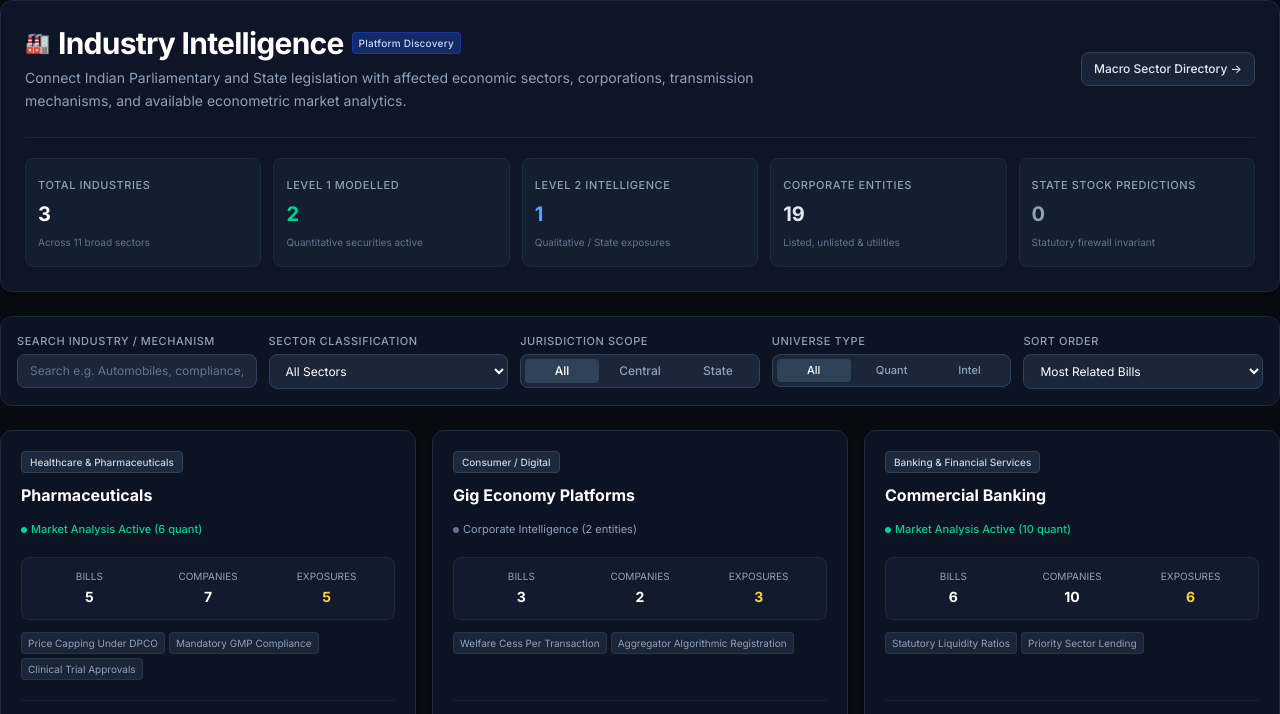
it: IndustriesContent (Industry Discovery Page) › filters industries by universe type
Expected: the link "Commercial Banking" is shown, [885,485,1046,505]
Note: Click "Intel" universe button
Click the button "Intel": (969, 371) [932,359,1006,382]
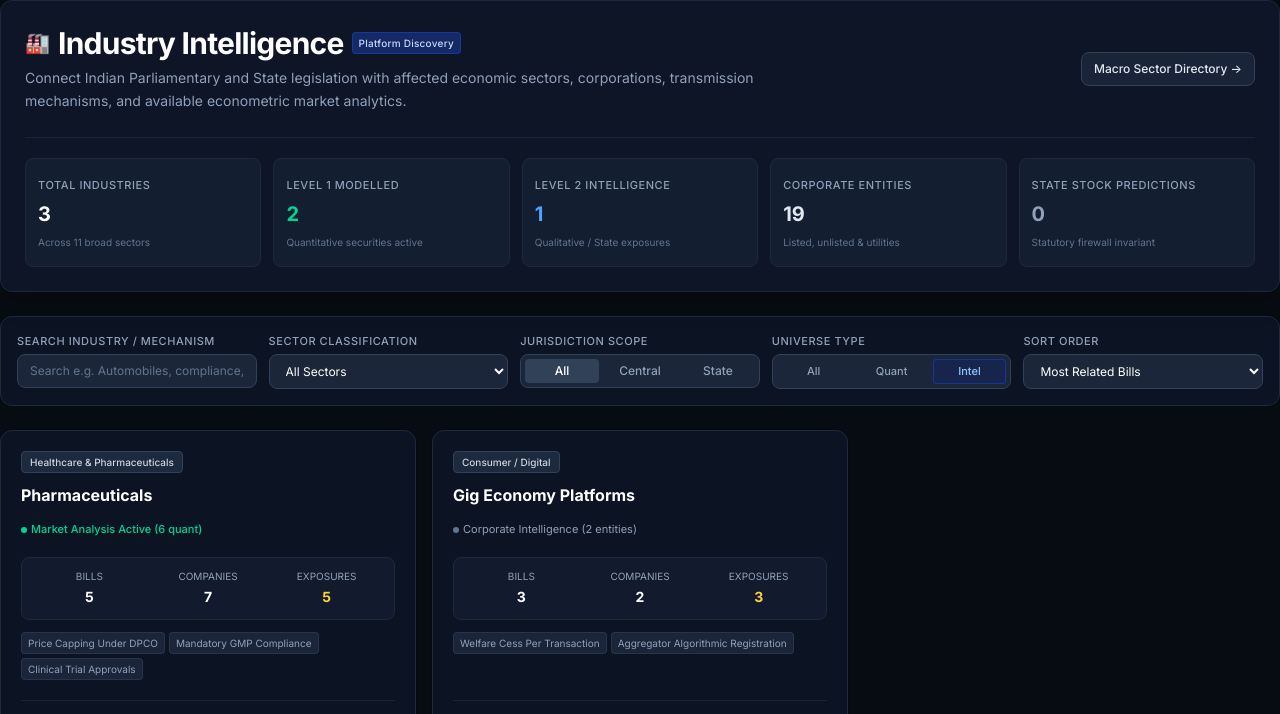
Expected: the link "Gig Economy Platforms" is shown, [453,485,635,505]
Expected: the link "Commercial Banking" is gone
